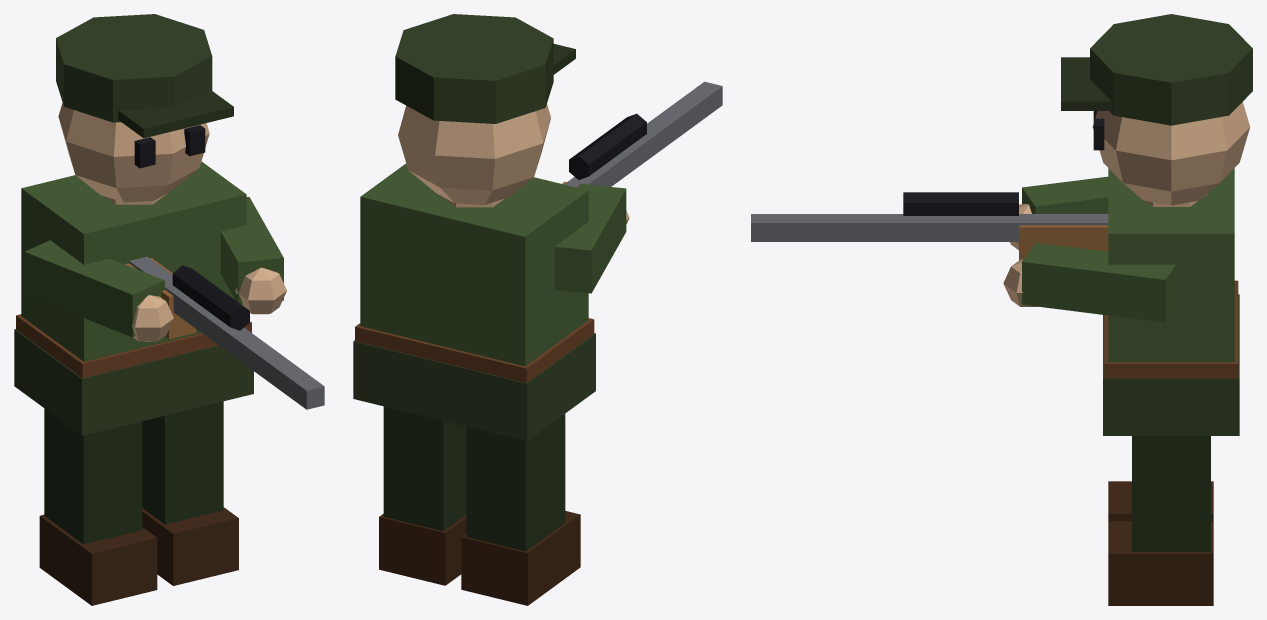
Rendered from u_rifleman.fbx.
3 views of the same model, side by side, from view 1: azimuth 30°, elevation 25°; view 2: azimuth 150°, elevation 25°; view 3: azimuth 270°, elevation 25° (orthographic).
Visible parts, largest first — view 1: u_rifleman_Body, u_rifleman_LegR, u_rifleman_LegL; view 2: u_rifleman_Body, u_rifleman_LegR, u_rifleman_LegL; view 3: u_rifleman_Body, u_rifleman_LegL, u_rifleman_LegR.
Part boxes in pixels (bbox=[...]): u_rifleman_Body: bbox=[14, 14, 324, 435]; u_rifleman_LegR: bbox=[39, 408, 157, 605]; u_rifleman_LegL: bbox=[142, 401, 238, 585]; u_rifleman_Body: bbox=[353, 14, 722, 441]; u_rifleman_LegR: bbox=[461, 414, 580, 605]; u_rifleman_LegL: bbox=[379, 406, 466, 585]; u_rifleman_Body: bbox=[751, 14, 1252, 435]; u_rifleman_LegL: bbox=[1108, 436, 1213, 605]; u_rifleman_LegR: bbox=[1108, 481, 1213, 521].
Size of the model in its own units: 0.4977 by 1.09 by 0.955.
